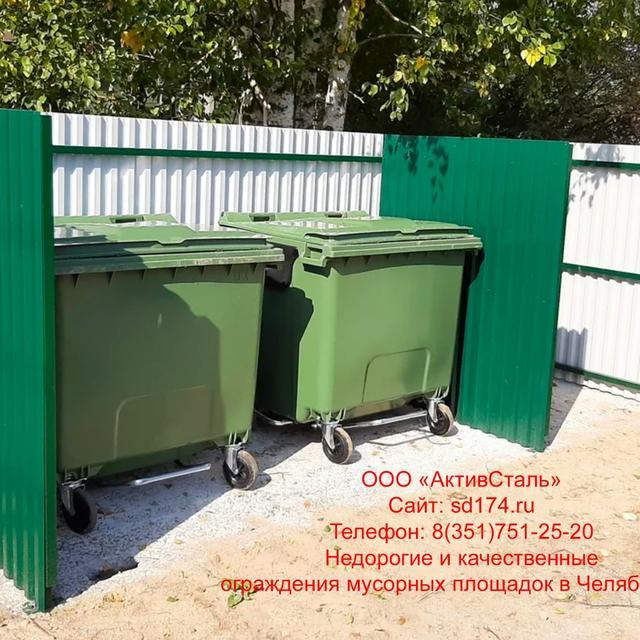Trash_Can_Closed: (52, 213, 286, 474), (219, 208, 484, 421)
